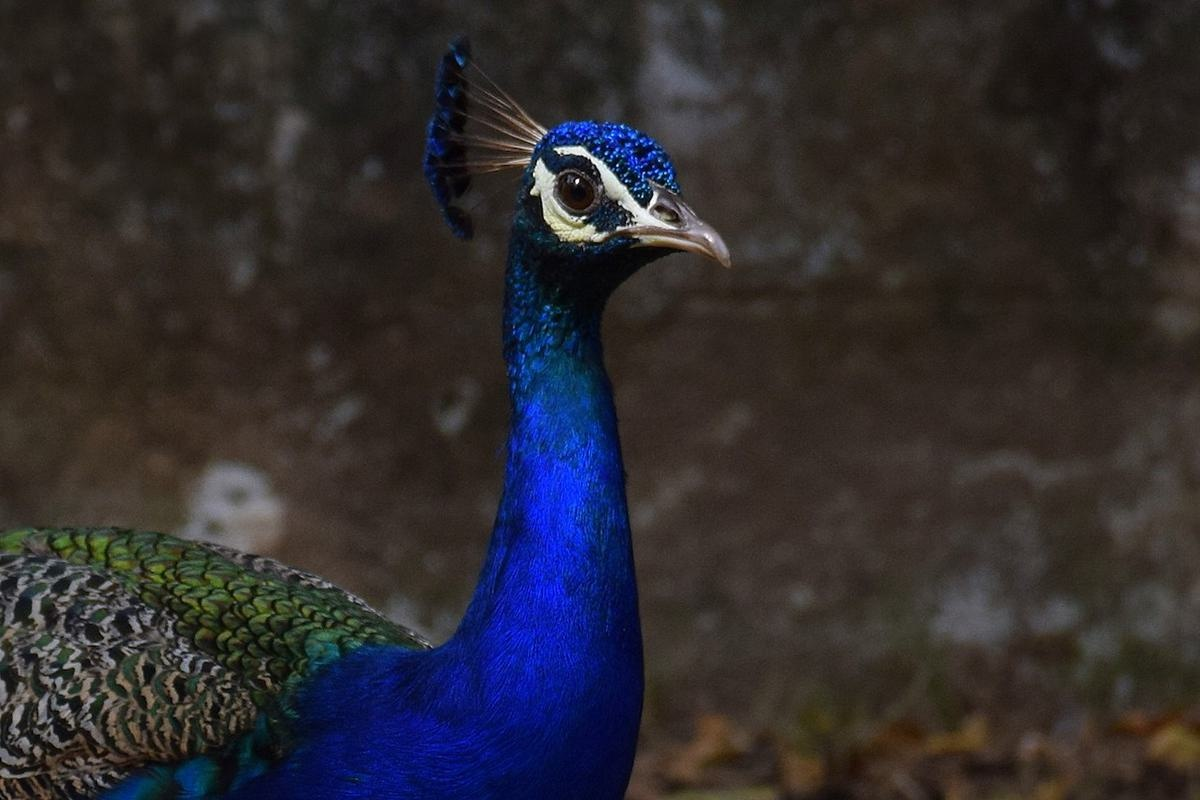peacock: (26, 58, 726, 800)
